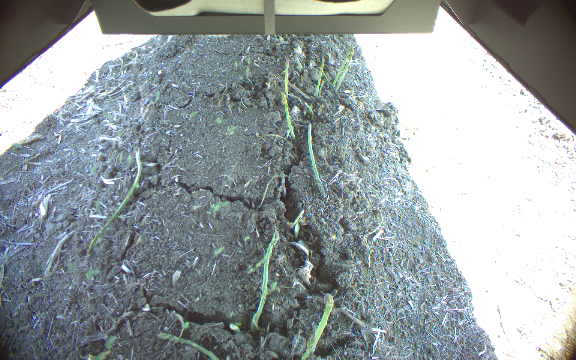aspa: (303, 294, 334, 358), (332, 43, 353, 92), (277, 90, 295, 137), (330, 47, 351, 87), (313, 57, 325, 96), (282, 56, 292, 96)
